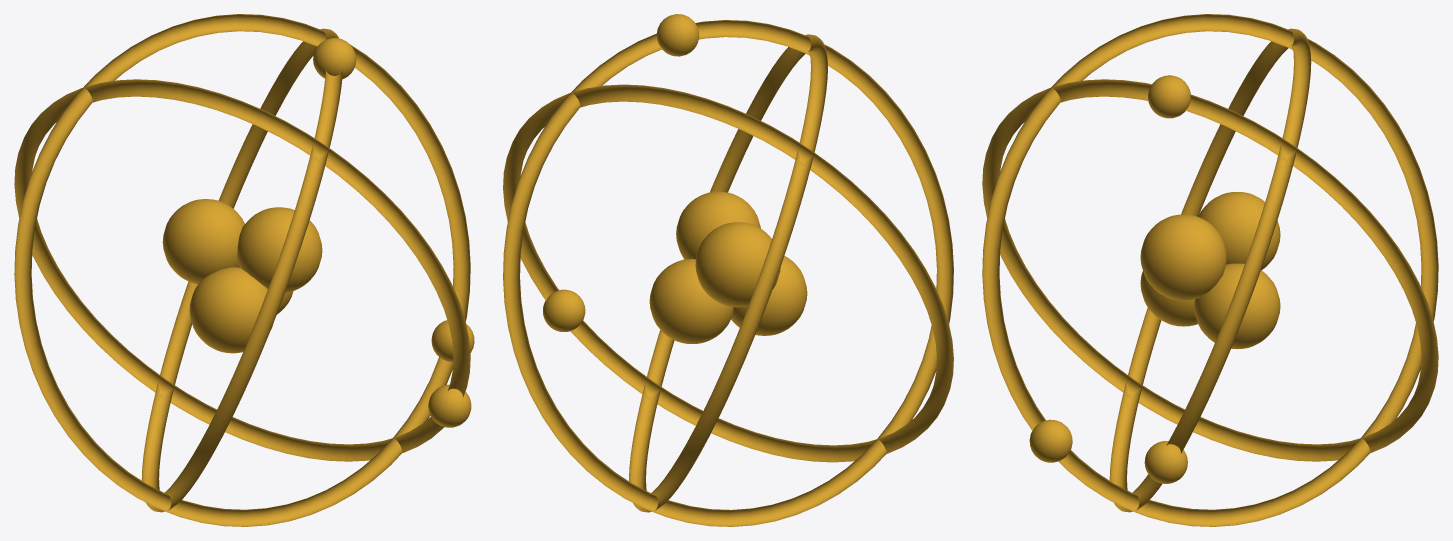
Rendered from physics.glb.
The picture shows the model from 3 angles, left to right: view 1: azimuth 30°, elevation 25°; view 2: azimuth 150°, elevation 25°; view 3: azimuth 270°, elevation 25°; orthographic projection.
Visible parts, largest first — view 1: physics; view 2: physics; view 3: physics.
Part boxes in pixels (bbox=[...]): physics: bbox=[14, 14, 474, 526]; physics: bbox=[503, 14, 953, 526]; physics: bbox=[982, 14, 1438, 526].
Bounding box in the file's own units: 1 × 0.9556 × 0.8894.
